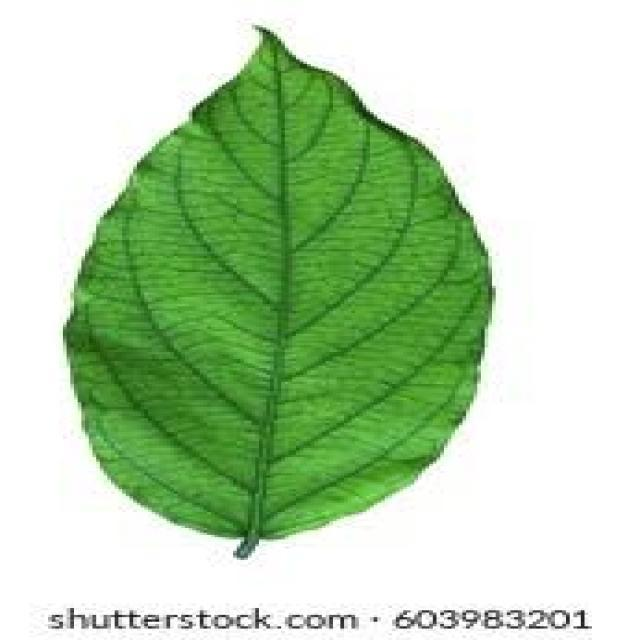leaf: (62, 23, 494, 558)
